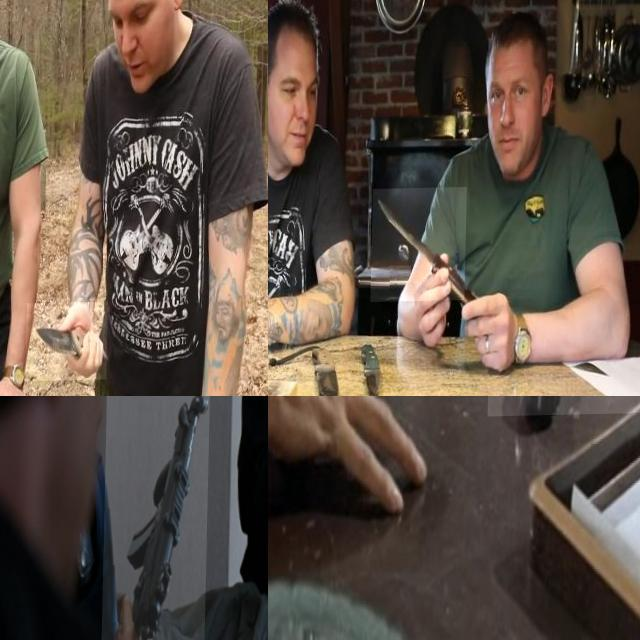-: (372, 188, 468, 304), (28, 303, 110, 383)
gun-knife-thesis - v11 Yolov5 augmented: (103, 396, 212, 640), (489, 396, 640, 485)
